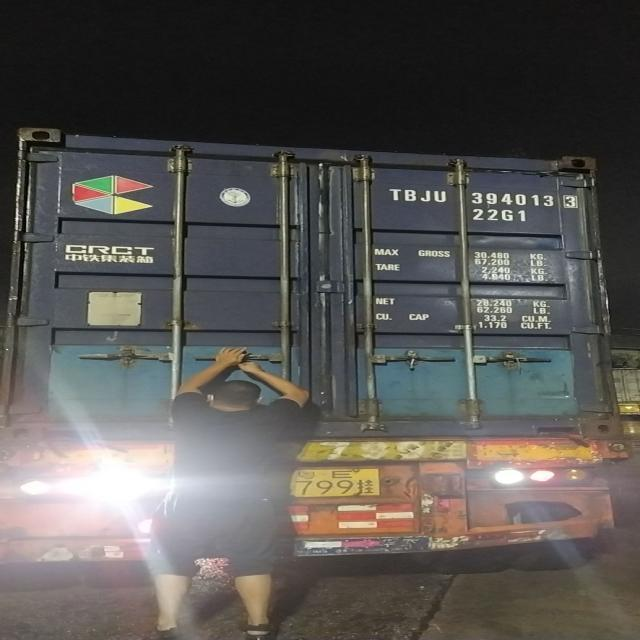ISO: (474, 207, 530, 227)
container_number: (390, 190, 573, 204)
